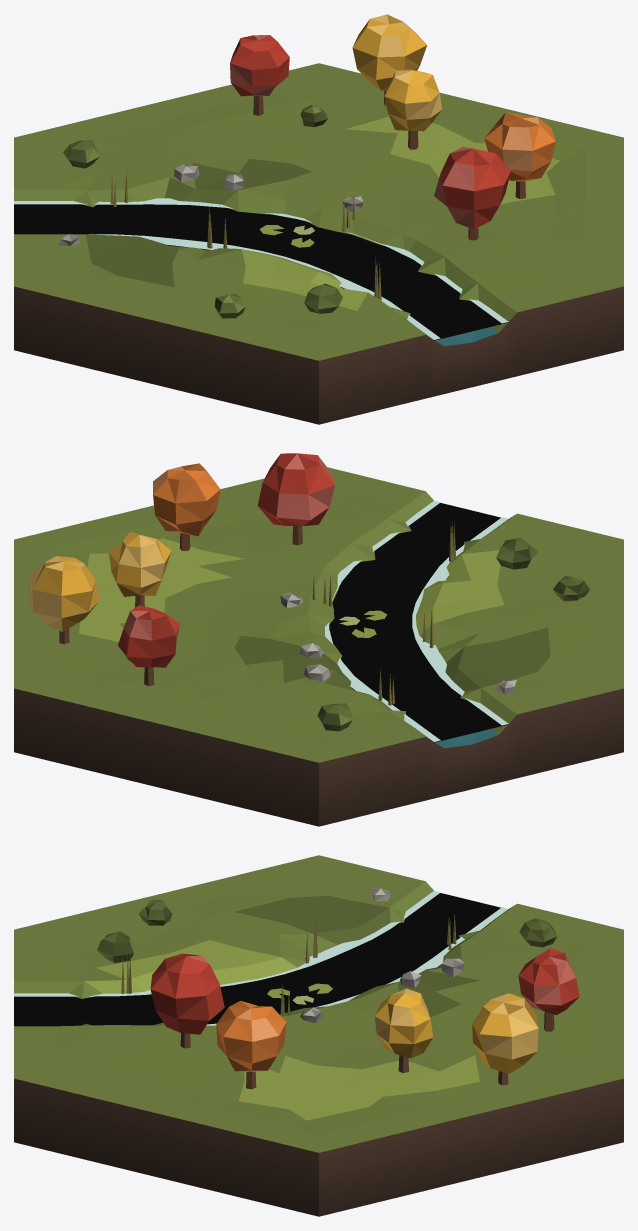
The model's file is SM_Tile_River_Bend.fbx.
3 views of the same model, one above another, from view 1: azimuth 30°, elevation 25°; view 2: azimuth 150°, elevation 25°; view 3: azimuth 270°, elevation 25° (orthographic).
Parts seen in each view (by area): view 1: SM_Tile_River_Bend; view 2: SM_Tile_River_Bend; view 3: SM_Tile_River_Bend.
Boxes of the visible parts, left/top/right/bottom form: SM_Tile_River_Bend: left=14, top=14, right=623, bottom=424; SM_Tile_River_Bend: left=14, top=453, right=623, bottom=826; SM_Tile_River_Bend: left=14, top=855, right=623, bottom=1216.
Bounding box in the file's own units: 20 × 4.84 × 17.32.
